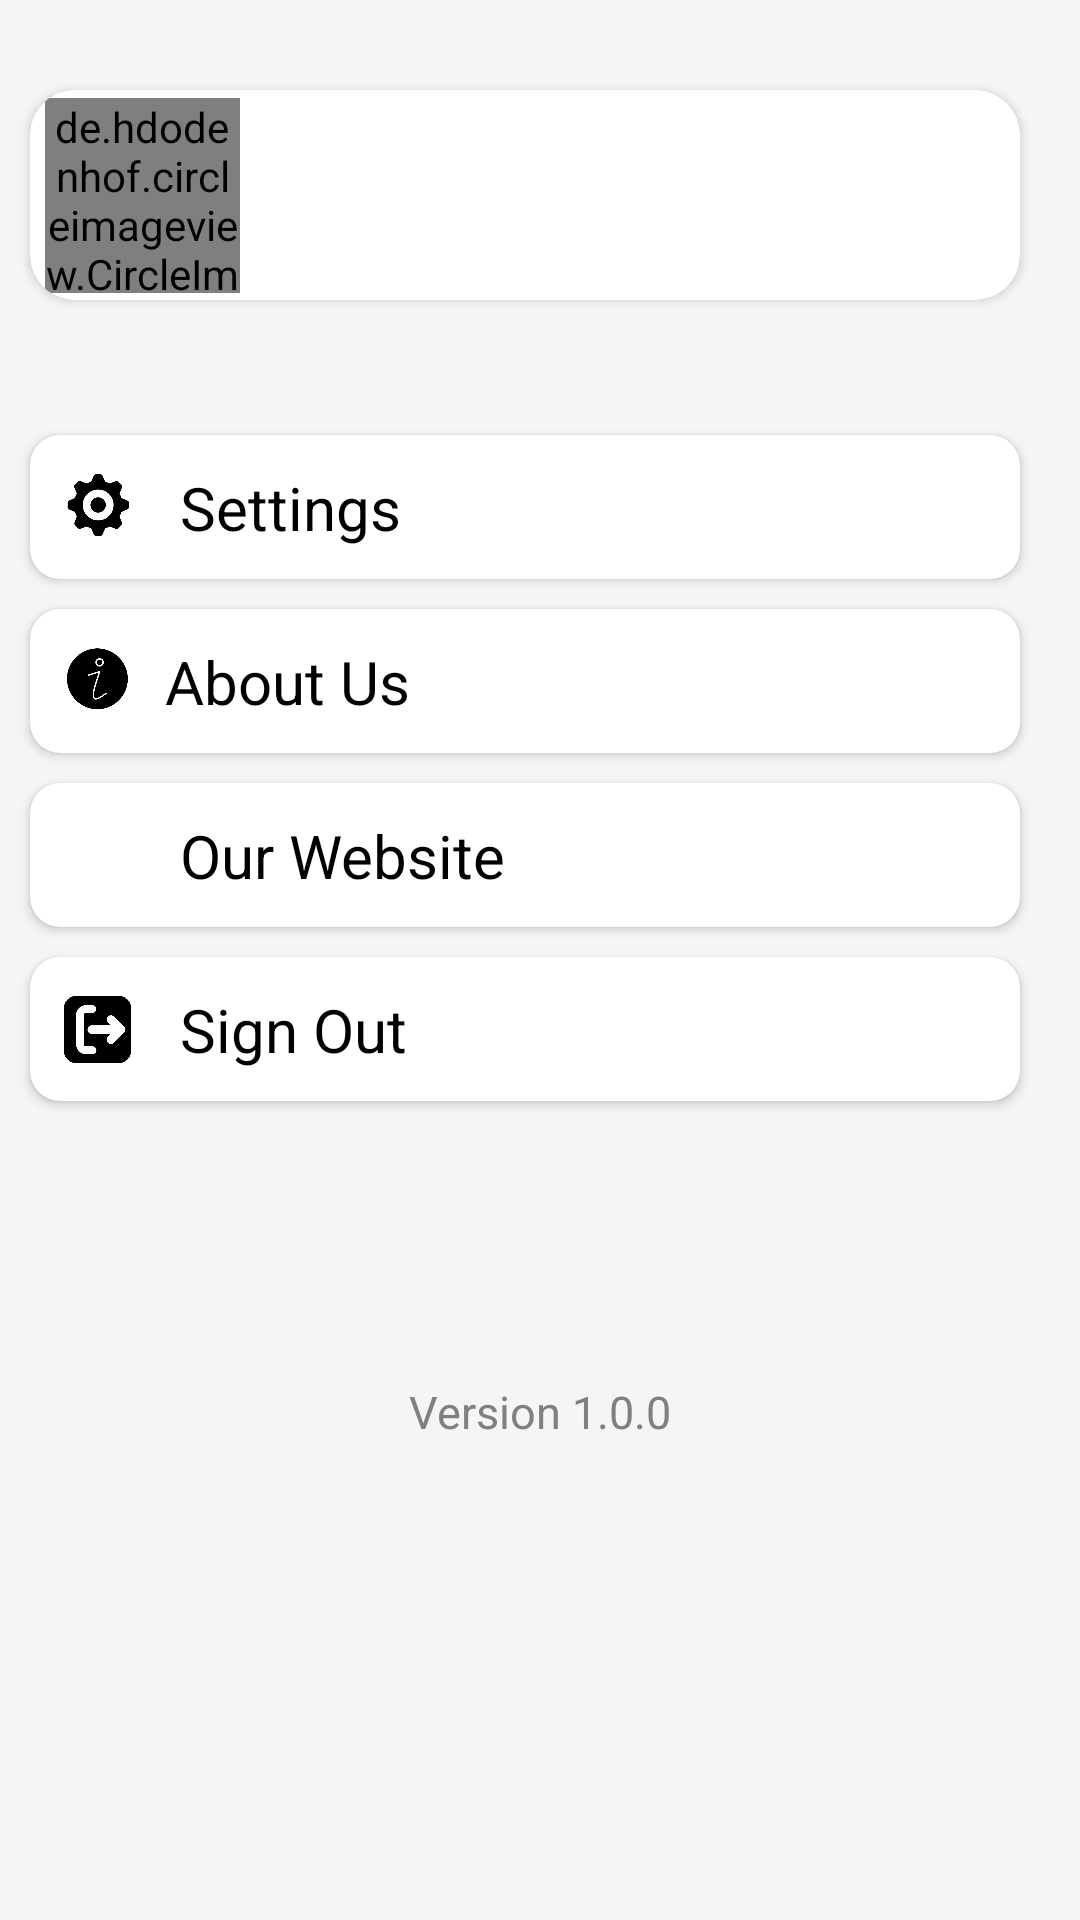

Icons on this 1080 x 1920 Android screen, each with its box as (x1, y1, x2, y2):
info: (67, 648, 128, 709)
